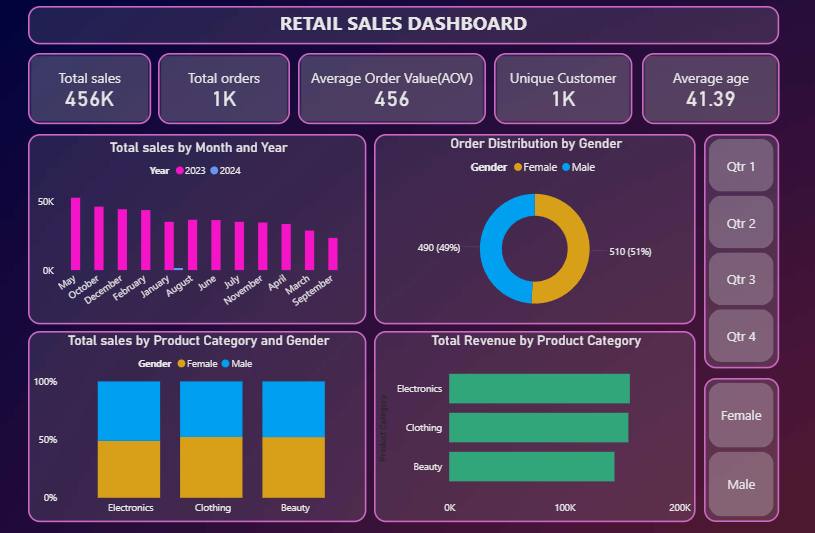

The page's visual inventory and layout, read from the dashboard file:
{"tool":"powerbi","page":{"name":"Page 1","canvas":[1280,720],"ordinal":0},"visuals":[{"type":"textbox","box":[12,0,937,45],"z":0},{"type":"clusteredColumnChart","fields":{"Y":["retail_sales_dataset.Total sales"],"Category":["retail_sales_dataset.Date.Variation.Date Hierarchy.Month"],"Series":["retail_sales_dataset.Date.Variation.Date Hierarchy.Year"]},"box":[12.1,154.5,423.2,238.4],"z":1000},{"type":"hundredPercentStackedColumnChart","fields":{"Series":["retail_sales_dataset.Gender"],"Y":["retail_sales_dataset.Total sales"],"Category":["retail_sales_dataset.Product Category"]},"box":[12.1,401,423.2,238.4],"z":2000},{"type":"donutChart","title":"Order Distribution by Gender","fields":{"Category":["retail_sales_dataset.Gender"],"Y":["retail_sales_dataset.Total orders"]},"box":[444.4,154.5,402,238.4],"z":3000},{"type":"cardVisual","fields":{"Data":["retail_sales_dataset.Total sales"]},"box":[12,57,155,89],"z":4000},{"type":"cardVisual","fields":{"Data":["retail_sales_dataset.Total orders"]},"box":[175,57,165,89],"z":5000},{"type":"cardVisual","fields":{"Data":["retail_sales_dataset.Average Order Value(AOV)"]},"box":[349,57,236,89],"z":6000},{"type":"cardVisual","fields":{"Data":["retail_sales_dataset.Unique Customer"]},"box":[595,57,173,89],"z":7000},{"type":"cardVisual","fields":{"Data":["retail_sales_dataset.Average age"]},"box":[777,57,172,89],"z":8000},{"type":"barChart","title":"Total Revenue by Product Category","fields":{"Y":["retail_sales_dataset.Total sales"],"Category":["retail_sales_dataset.Product Category"]},"box":[444.4,401,402,238.4],"z":9000},{"type":"advancedSlicerVisual","fields":{"Values":["retail_sales_dataset.Date.Variation.Date Hierarchy.Quarter"]},"box":[855,155,93,294],"z":10000},{"type":"advancedSlicerVisual","fields":{"Values":["retail_sales_dataset.Gender"]},"box":[855,459,93,180],"z":11000}]}

Visuals, with their boxes on the page's 1280x720 design canvas (x1, y1, x2, y2). These are canvas units, not pixel positions in the 815x533 screenshot, which may show the page scaled, cropped or inside an application window:
textbox: {"left": 12, "top": 0, "right": 949, "bottom": 45}
clusteredColumnChart - retail_sales_dataset.Total sales x retail_sales_dataset.Date.Variation.Date Hierarchy.Month: {"left": 12, "top": 154, "right": 435, "bottom": 393}
hundredPercentStackedColumnChart - retail_sales_dataset.Gender x retail_sales_dataset.Total sales: {"left": 12, "top": 401, "right": 435, "bottom": 639}
"Order Distribution by Gender" donutChart: {"left": 444, "top": 154, "right": 846, "bottom": 393}
cardVisual - retail_sales_dataset.Total sales: {"left": 12, "top": 57, "right": 167, "bottom": 146}
cardVisual - retail_sales_dataset.Total orders: {"left": 175, "top": 57, "right": 340, "bottom": 146}
cardVisual - retail_sales_dataset.Average Order Value(AOV): {"left": 349, "top": 57, "right": 585, "bottom": 146}
cardVisual - retail_sales_dataset.Unique Customer: {"left": 595, "top": 57, "right": 768, "bottom": 146}
cardVisual - retail_sales_dataset.Average age: {"left": 777, "top": 57, "right": 949, "bottom": 146}
"Total Revenue by Product Category" barChart: {"left": 444, "top": 401, "right": 846, "bottom": 639}
advancedSlicerVisual - retail_sales_dataset.Date.Variation.Date Hierarchy.Quarter: {"left": 855, "top": 155, "right": 948, "bottom": 449}
advancedSlicerVisual - retail_sales_dataset.Gender: {"left": 855, "top": 459, "right": 948, "bottom": 639}
